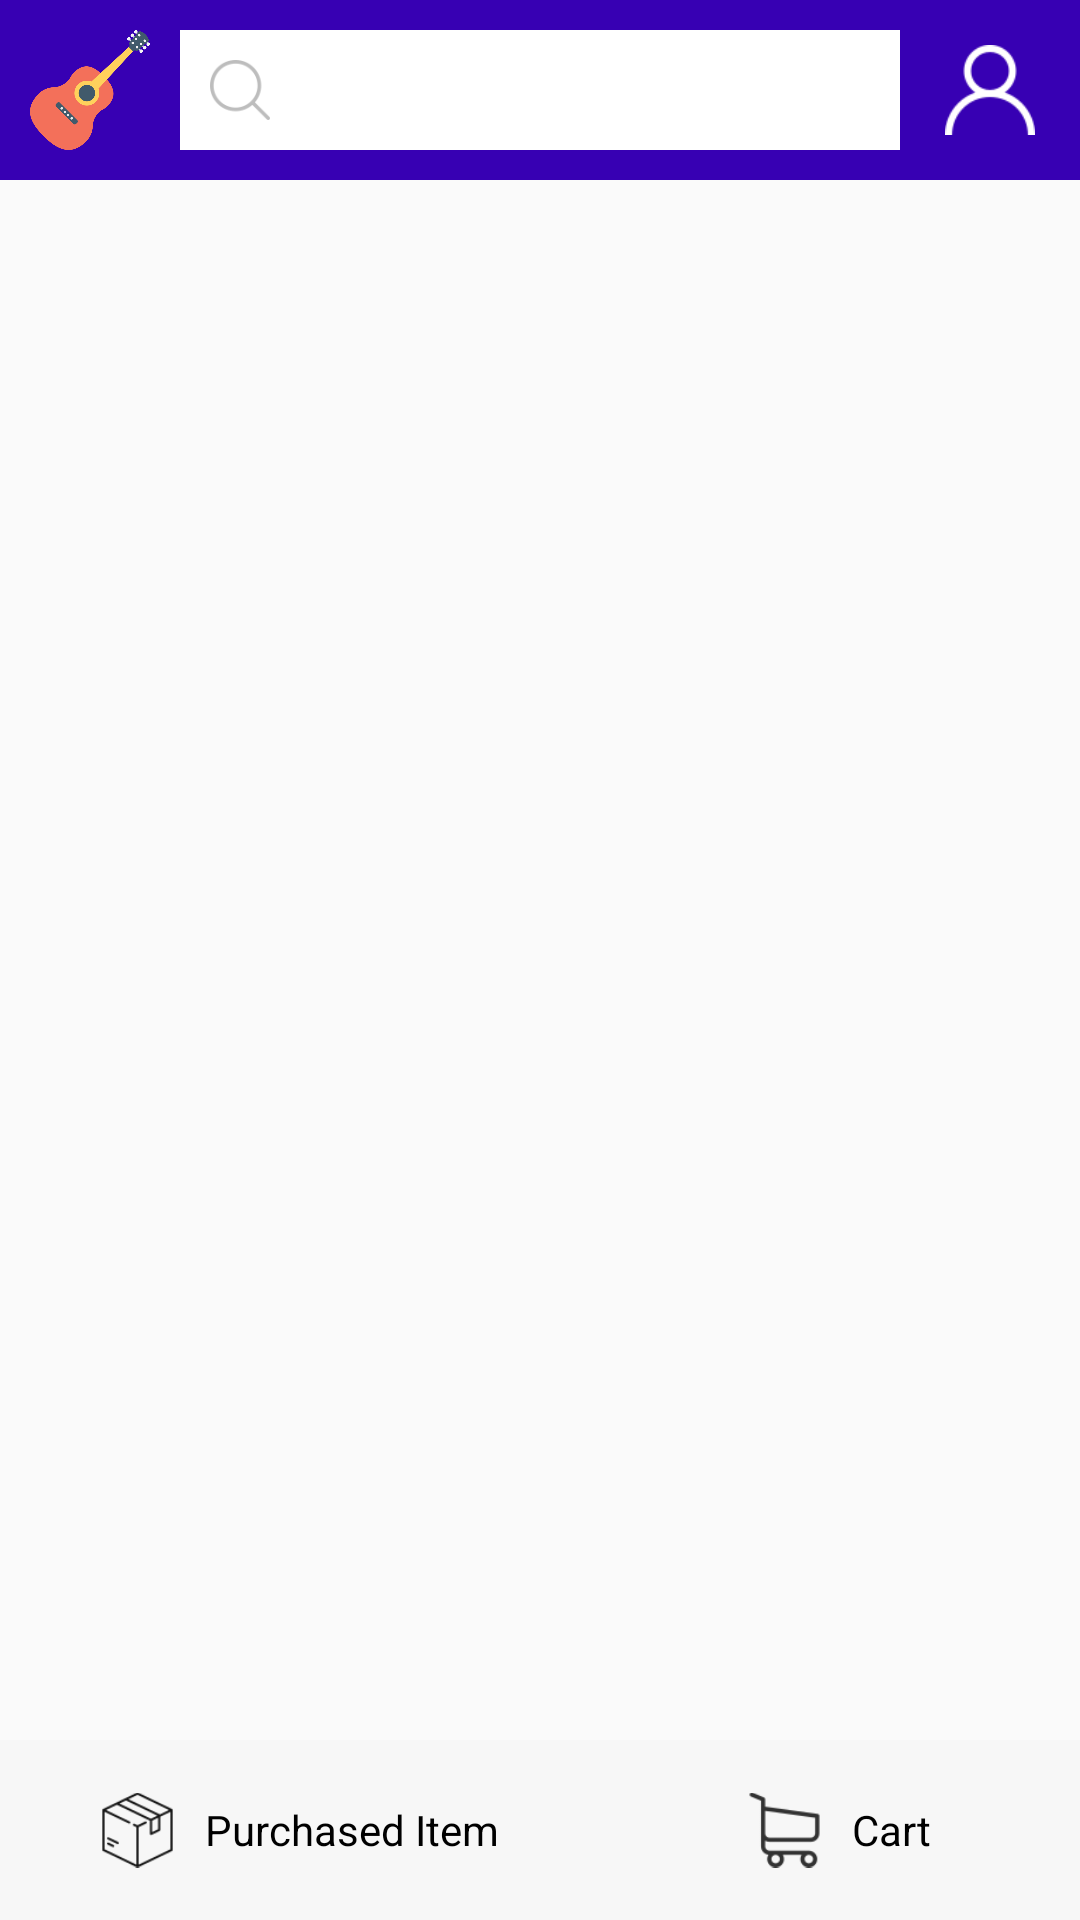

Icons on this 1080w x 1920h Android screen, each with its box as Rect(x1, y1, x2, y2):
guitar: Rect(30, 30, 150, 150)
search: Rect(210, 60, 270, 120)
user: Rect(945, 45, 1035, 135)
